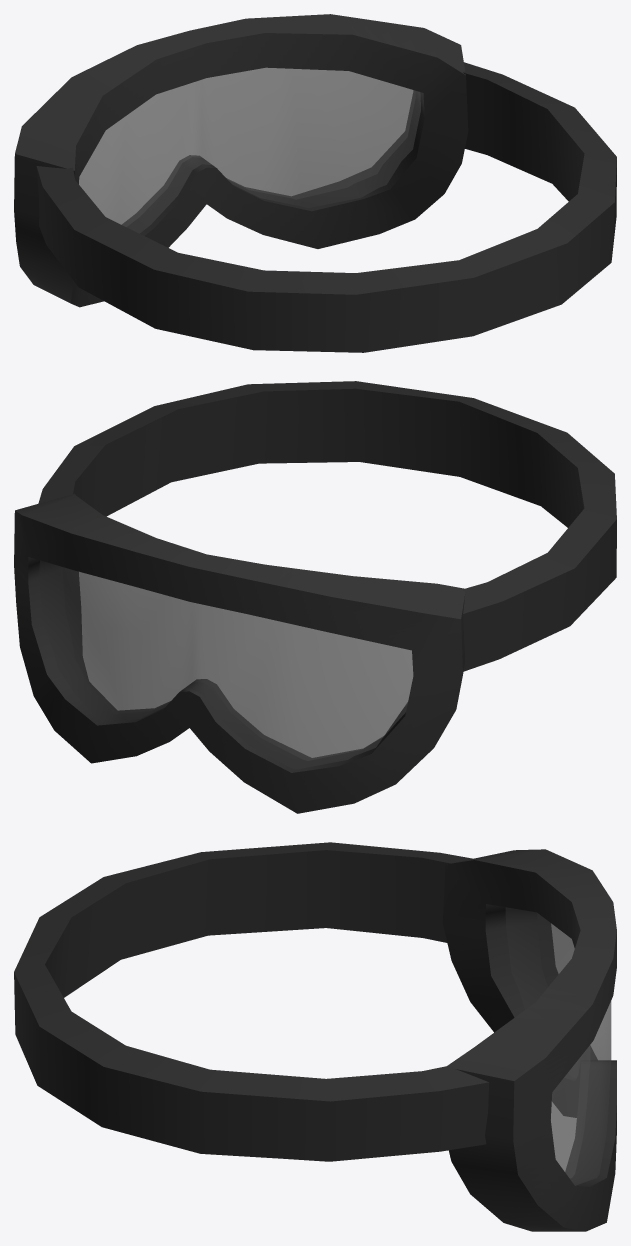
File: Eyewear_8.fbx
The picture shows the model from 3 angles, top to bottom: view 1: azimuth 30°, elevation 25°; view 2: azimuth 150°, elevation 25°; view 3: azimuth 270°, elevation 25°; orthographic projection. The views are drawn at different scales.
Visible parts, largest first — view 1: Eyewear_8; view 2: Eyewear_8; view 3: Eyewear_8.
Part boxes in pixels (left/top/right/bottom): Eyewear_8: left=14, top=14, right=616, bottom=352; Eyewear_8: left=14, top=381, right=616, bottom=813; Eyewear_8: left=14, top=842, right=616, bottom=1231.
Size of the model in its own units: 74.08 by 31.85 by 72.84.
